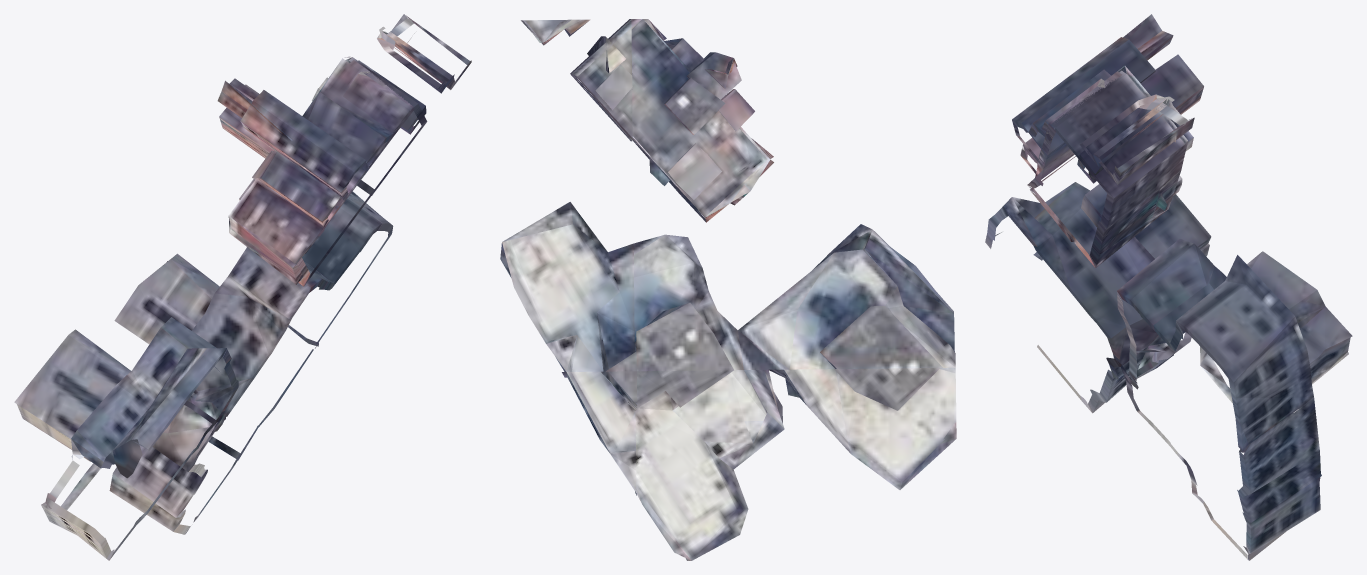
The picture shows the model from 3 angles, left to right: view 1: azimuth 30°, elevation 25°; view 2: azimuth 150°, elevation 25°; view 3: azimuth 270°, elevation 25°; orthographic projection. The views are drawn at different scales.
Size of the model in its own units: 54.15 by 57.03 by 34.52.
Materials: 1 (1 with a texture image).
